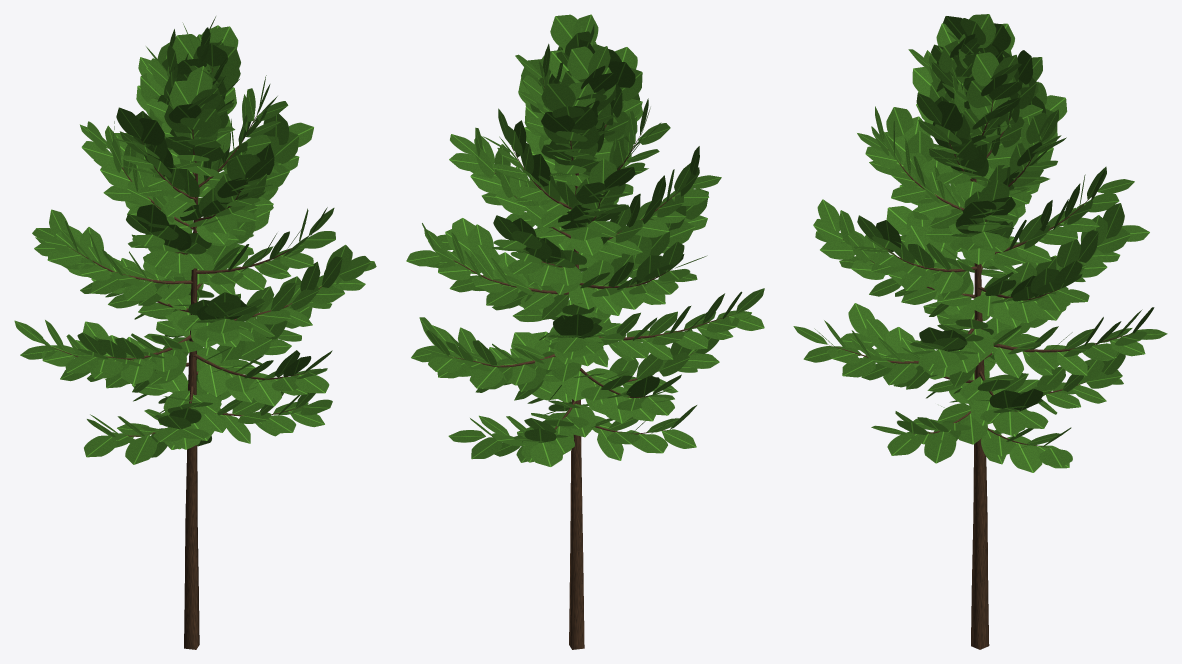
File: alamo.glb
The picture shows the model from 3 angles, left to right: view 1: azimuth 30°, elevation 25°; view 2: azimuth 150°, elevation 25°; view 3: azimuth 270°, elevation 25°; orthographic projection.
Visible parts, largest first — view 1: leaves, tree; view 2: leaves, tree; view 3: leaves, tree.
Part boxes in pixels (box(x1,y1,x2,y2)): leaves: box(14, 16, 376, 464); tree: box(52, 68, 321, 649); leaves: box(406, 14, 764, 466); tree: box(448, 81, 732, 649); leaves: box(793, 14, 1167, 472); tree: box(828, 100, 1132, 649).
Bounding box in the file's own units: 0.5392 × 1 × 0.5345.
2 materials, 2 textured.
